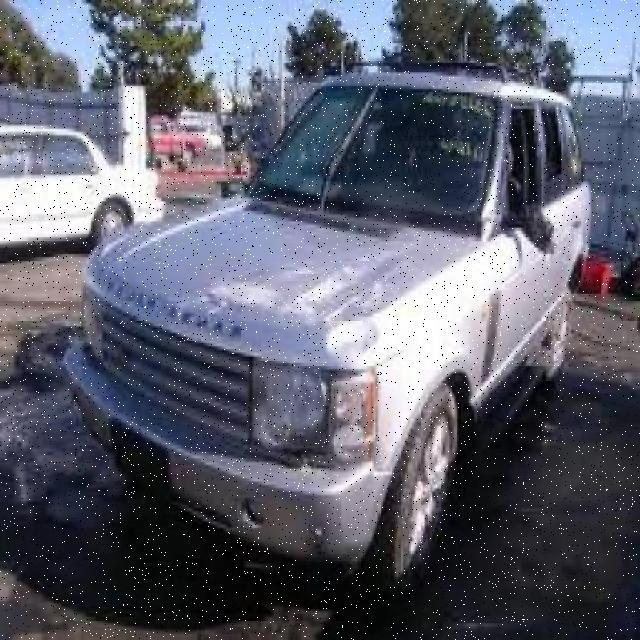damage: (184, 244, 419, 365)
